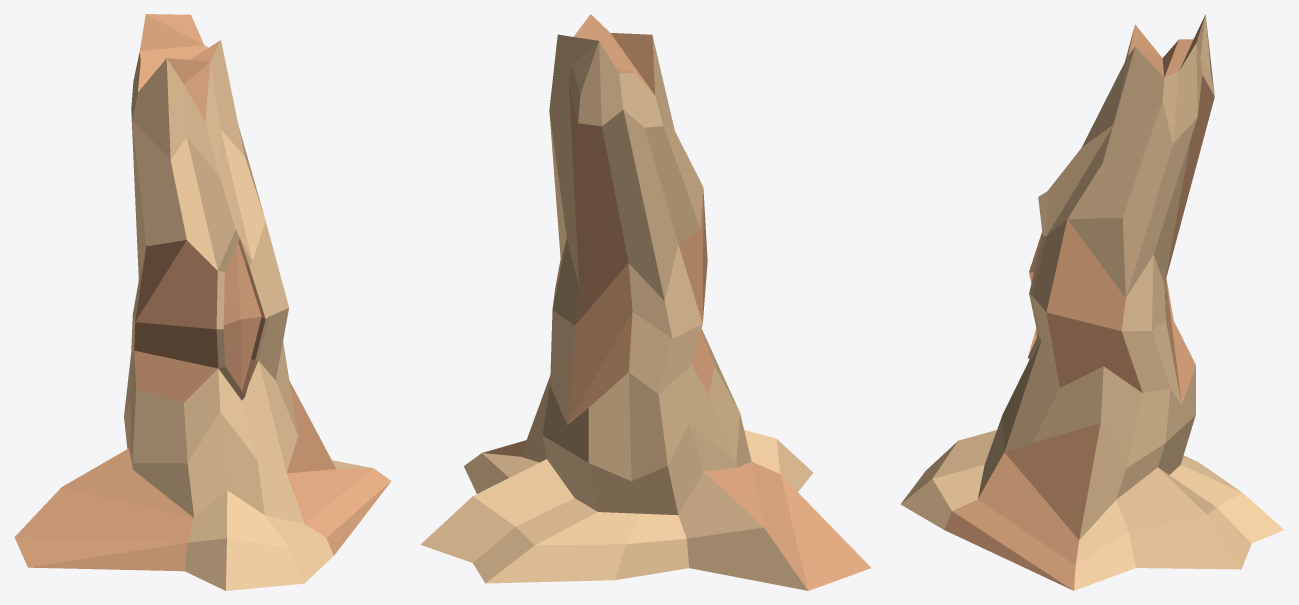
The model's file is Dead Tree 1.fbx.
3 views of the same model, side by side, from view 1: azimuth 30°, elevation 25°; view 2: azimuth 150°, elevation 25°; view 3: azimuth 270°, elevation 25° (orthographic). The views are drawn at different scales.
Visible parts, largest first — view 1: Dead Tree 1; view 2: Dead Tree 1; view 3: Dead Tree 1.
Part boxes in pixels (x1,y1,x2,y2): Dead Tree 1: (14,14,391,590); Dead Tree 1: (420,14,870,590); Dead Tree 1: (900,14,1283,590).
Size of the model in its own units: 121 by 148 by 107.
